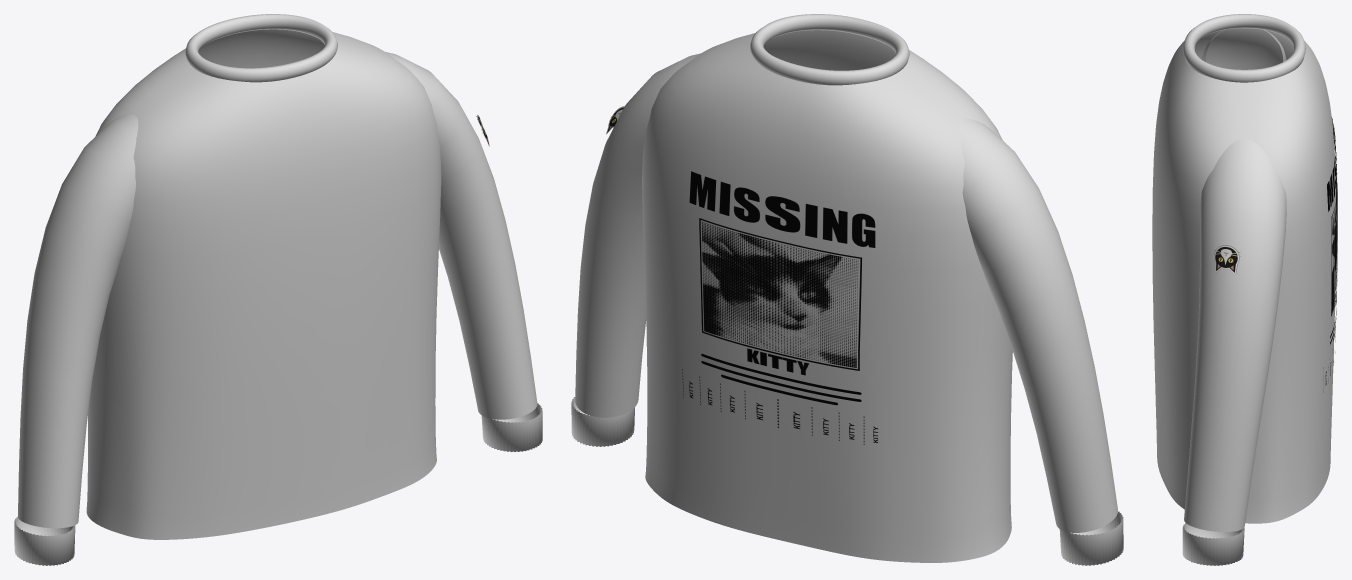
The model's file is merch-longsleeve.glb.
The picture shows the model from 3 angles, left to right: view 1: azimuth 30°, elevation 25°; view 2: azimuth 150°, elevation 25°; view 3: azimuth 270°, elevation 25°; orthographic projection. The views are drawn at different scales.
Parts seen in each view (by area): view 1: Fabric; view 2: Fabric, Print; view 3: Fabric, Print, Embroidery.
Part boxes in pixels (x1,y1,x2,y2): Fabric: [14, 14, 542, 565]; Fabric: [571, 14, 1123, 565]; Print: [682, 171, 877, 444]; Fabric: [1152, 14, 1335, 565]; Print: [1323, 117, 1337, 389]; Embroidery: [1214, 245, 1240, 273].
Bounding box in the file's own units: 0.8256 × 0.6738 × 0.2773.
3 materials, 2 textured.
